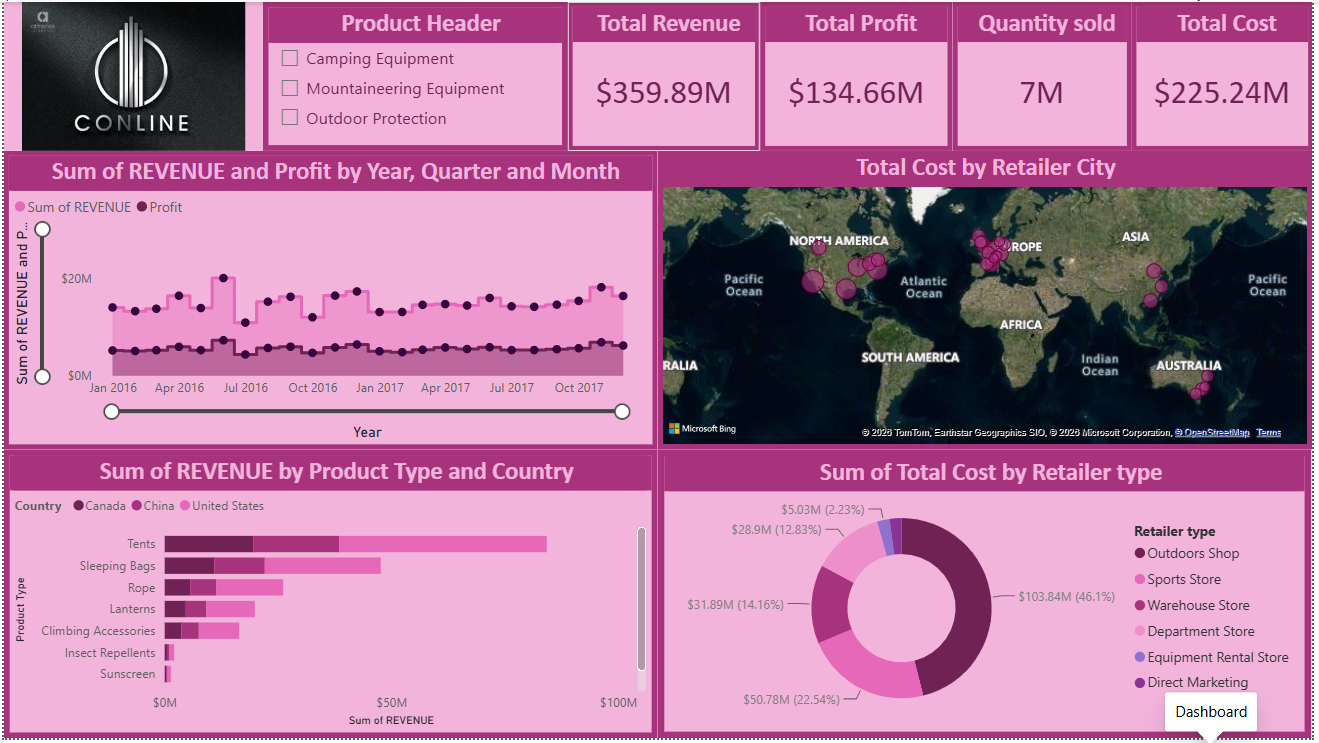

The dashboard page shown, as its layout file describes it:
{"tool":"powerbi","page":{"name":"Dashboard","canvas":[1280,720],"ordinal":6},"visuals":[{"type":"cardVisual","title":"Total Revenue","fields":{"Data":["Sum(Sales Table.REVENUE)"]},"box":[551.5,0,188.3,145.5],"z":0},{"type":"cardVisual","title":"Quantity sold","fields":{"Data":["Sum(Sales Table.Quantity Sold)"]},"box":[928.1,0,174.9,145.5],"z":1000},{"type":"cardVisual","title":"Total Cost","fields":{"Data":["Sum(Sales Table.Total Cost)"]},"box":[1103,0,177.3,145.5],"z":2000},{"type":"cardVisual","title":"Total Profit","fields":{"Data":["Sales Table.Profit"]},"box":[739.8,0,188.3,145.5],"z":3000},{"type":"areaChart","fields":{"Category":["Sales Table.Transaction date.Variation.Date Hierarchy.Year","Sales Table.Transaction date.Variation.Date Hierarchy.Quarter","Sales Table.Transaction date.Variation.Date Hierarchy.Month"],"Y":["Sum(Sales Table.REVENUE)","Sales Table.Profit"]},"box":[0,145.5,639.5,292.3],"z":4000},{"type":"map","title":"Total Cost by Retailer City","fields":{"Category":["Sales Table.Retailer City"],"Size":["Sum(Sales Table.Total Cost)"]},"box":[639.5,145.5,640.8,292.3],"z":5000},{"type":"donutChart","fields":{"Y":["Sum(Sales Table.Total Cost)"],"Category":["Sales Table.Retailer type"]},"box":[639.5,437.8,639.5,282.5],"z":6000},{"type":"barChart","fields":{"Category":["Product Table.Product Type"],"Series":["Country Table.Country "],"Y":["Sum(Sales Table.REVENUE)"]},"box":[0,437.8,639.5,282.5],"z":7000},{"type":"slicer","title":"Product Header","fields":{"Values":["Product Table.Product Line"]},"box":[253.1,0,298.4,145.5],"z":8000},{"type":"image","box":[0,0,253.1,145.5],"z":9000}]}

Visuals, with their boxes in screenshot pixels (x1, y1, x2, y2), scaled from the page's 1280x720 canvas onto the 1319x743 screenshot:
"Total Revenue" cardVisual: box=[568, 0, 762, 150]
"Quantity sold" cardVisual: box=[956, 0, 1137, 150]
"Total Cost" cardVisual: box=[1137, 0, 1318, 150]
"Total Profit" cardVisual: box=[762, 0, 956, 150]
areaChart - Sales Table.Transaction date.Variation.Date Hierarchy.Year x Sales Table.Transaction date.Variation.Date Hierarchy.Quarter: box=[0, 150, 659, 452]
"Total Cost by Retailer City" map: box=[659, 150, 1318, 452]
donutChart - Sum(Sales Table.Total Cost) x Sales Table.Retailer type: box=[659, 452, 1318, 742]
barChart - Product Table.Product Type x Country Table.Country : box=[0, 452, 659, 742]
"Product Header" slicer: box=[261, 0, 568, 150]
image: box=[0, 0, 261, 150]
